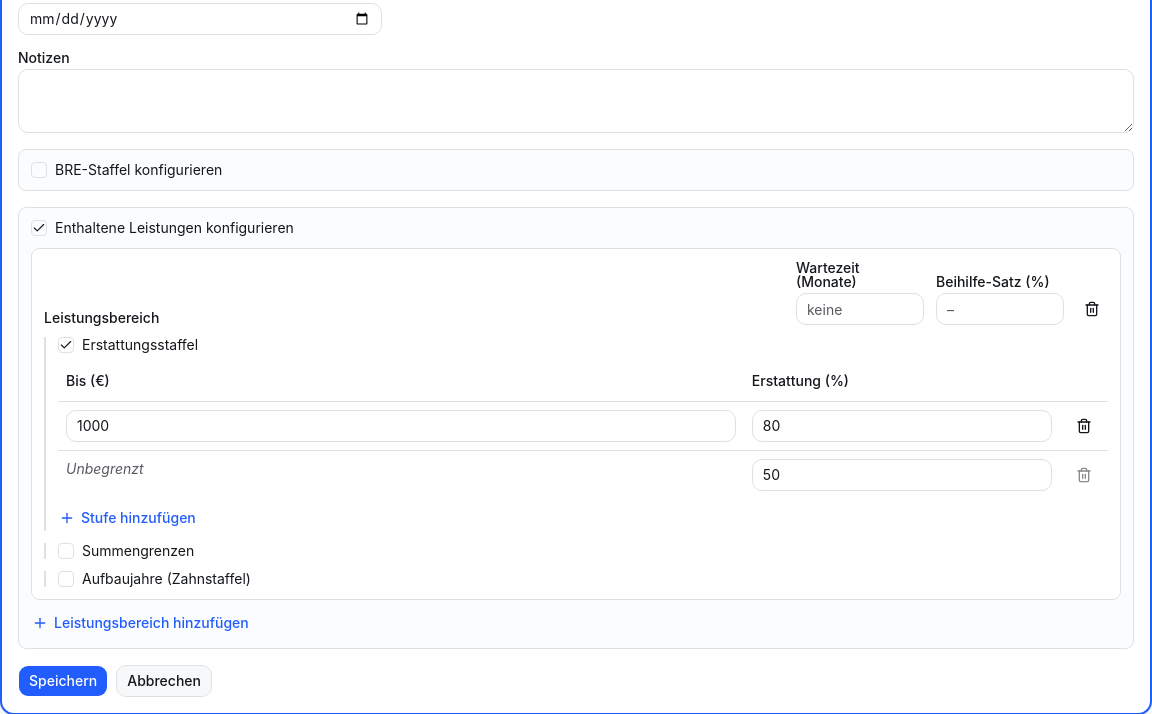
Test: InsuredPersonForm › blocks the submit while the Leistungskonfiguration is invalid
(page scrolled)
Click the button "Stufe hinzufügen" at (127, 518), box top-left (58, 506), bottom-right (197, 528)
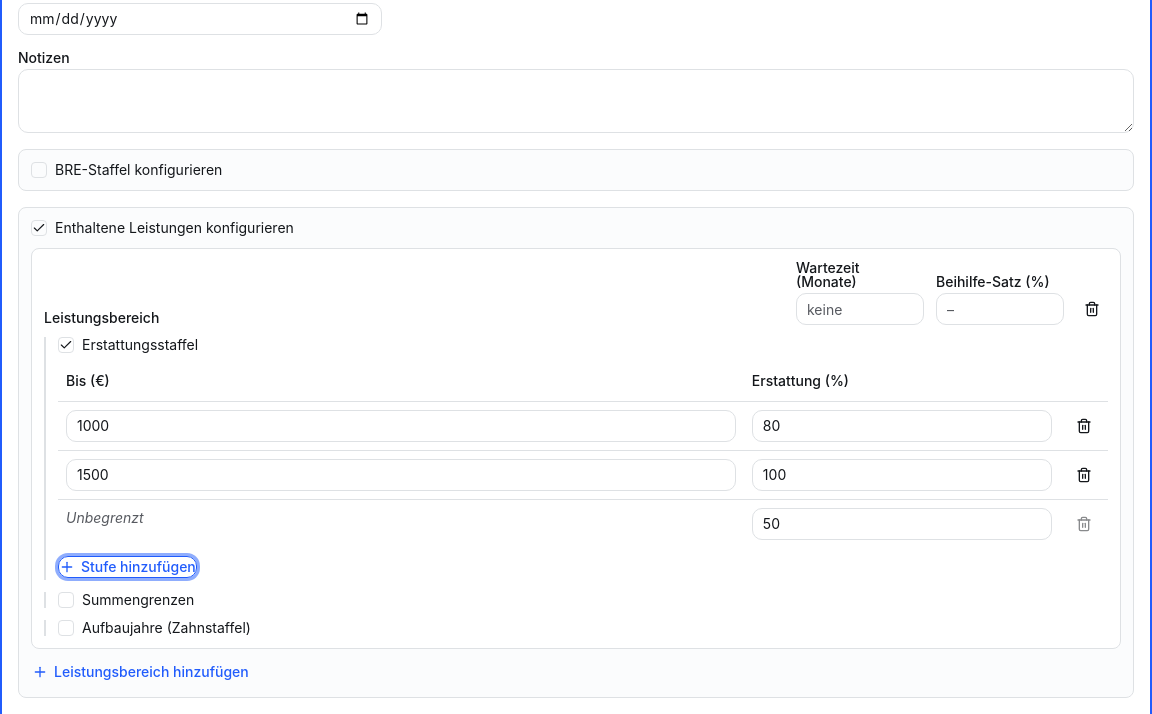
Clear the 2nd number field labelled "Bis (€)" at (401, 474), box top-left (66, 458), bottom-right (736, 490)
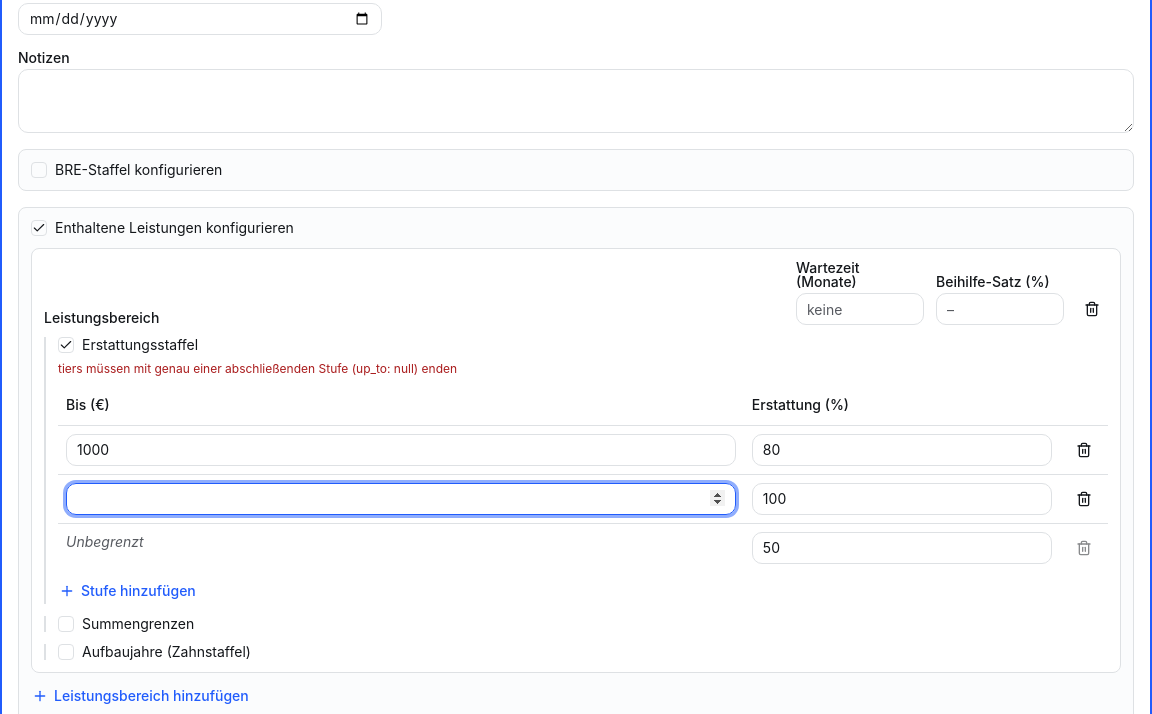
Type "500" into the 2nd number field labelled "Bis (€)" at (401, 498), box top-left (66, 482), bottom-right (736, 514)
(page scrolled)
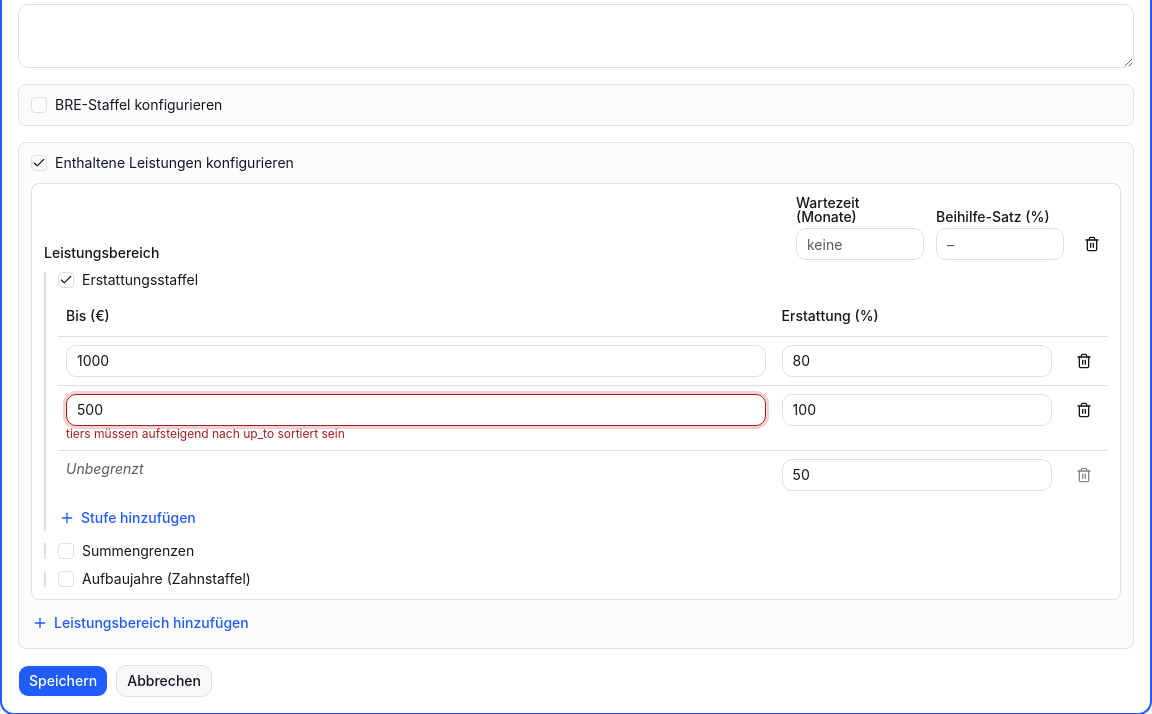
Click the button "Speichern" at (63, 680), box top-left (18, 664), bottom-right (108, 696)
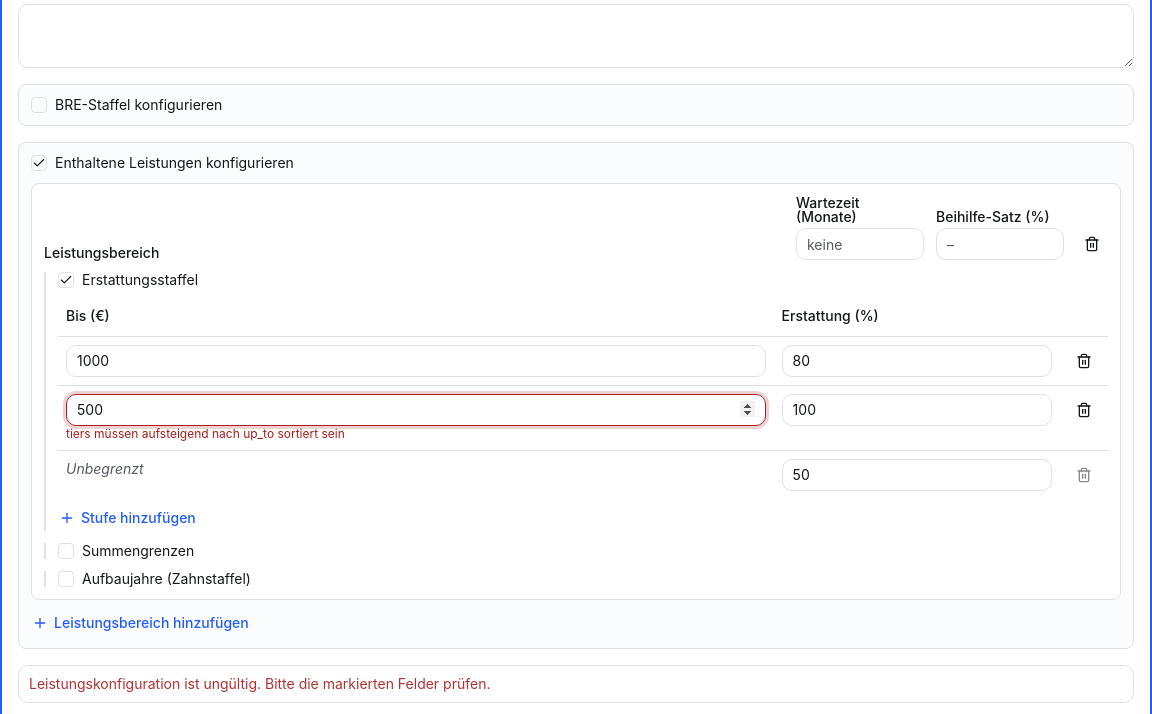
Result: the text "Leistungskonfiguration ist ungültig. Bitte die markierten Felder prüfen." is shown at top-left (29, 674), bottom-right (490, 692)
